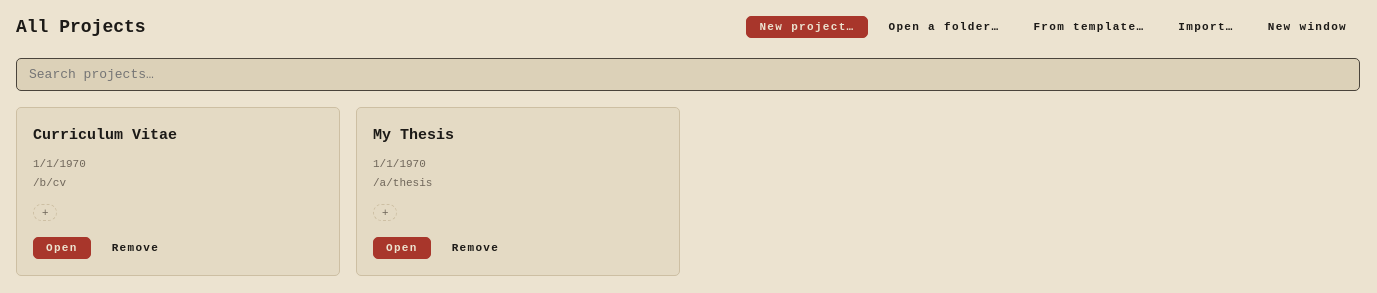
ProjectDashboard search › shows no-match message when search has no results
This screenshot has width=1377, height=293.
Type "xyzzy123" into the search field labelled "Search projects" at (688, 74), box [16,58,1360,91]
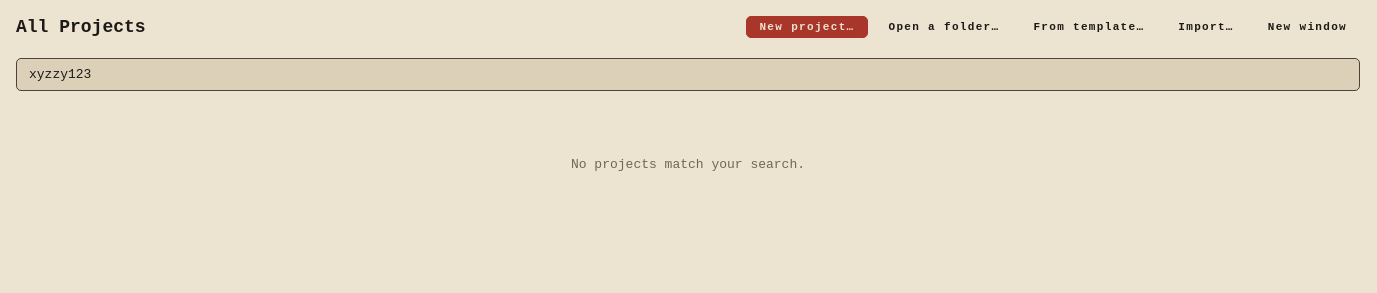
Result: the text "No projects match your search." is shown at [571,157,805,172]
